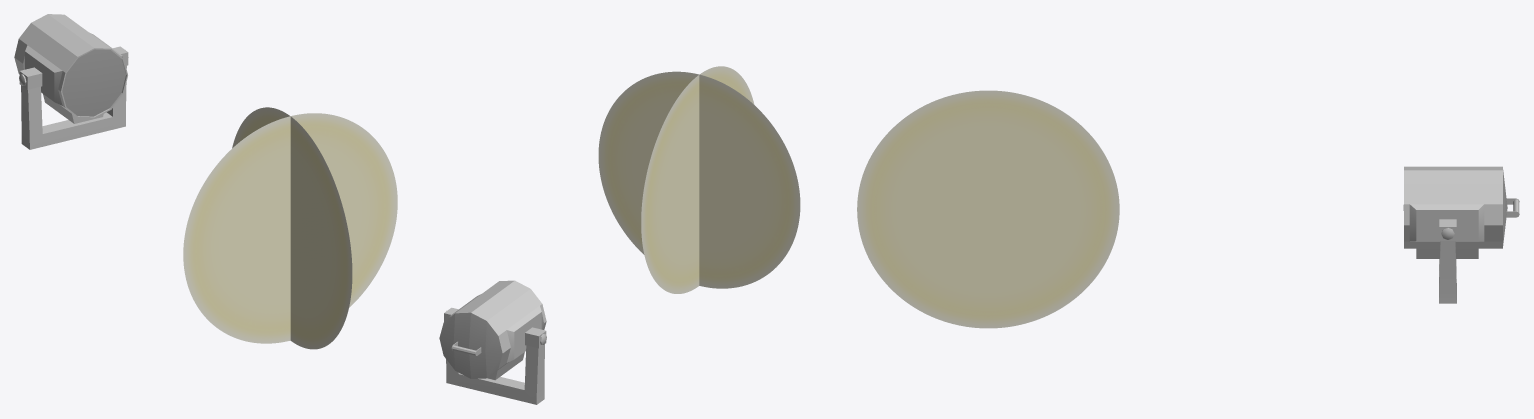
The model's file is ENV_BeaconOfLight.fbx.
3 renders of one model, left to right at view 1: azimuth 30°, elevation 25°; view 2: azimuth 150°, elevation 25°; view 3: azimuth 270°, elevation 25°, orthographic. The views are drawn at different scales.
Parts seen in each view (by area): view 1: ENV_LightPlanes, ENV_BeaconLight, ENV_Beacon; view 2: ENV_LightPlanes, ENV_BeaconLight, ENV_Beacon; view 3: ENV_LightPlanes, ENV_BeaconLight, ENV_Beacon.
Part boxes in pixels (x1,y1,x2,y2): ENV_LightPlanes: [183, 107, 397, 349]; ENV_BeaconLight: [14, 14, 128, 123]; ENV_Beacon: [19, 46, 128, 149]; ENV_LightPlanes: [598, 66, 800, 293]; ENV_BeaconLight: [439, 280, 546, 380]; ENV_Beacon: [444, 307, 546, 404]; ENV_LightPlanes: [857, 90, 1119, 328]; ENV_BeaconLight: [1403, 166, 1519, 258]; ENV_Beacon: [1439, 219, 1456, 303].
Bounding box in the file's own units: 10 × 10 × 23.06.
